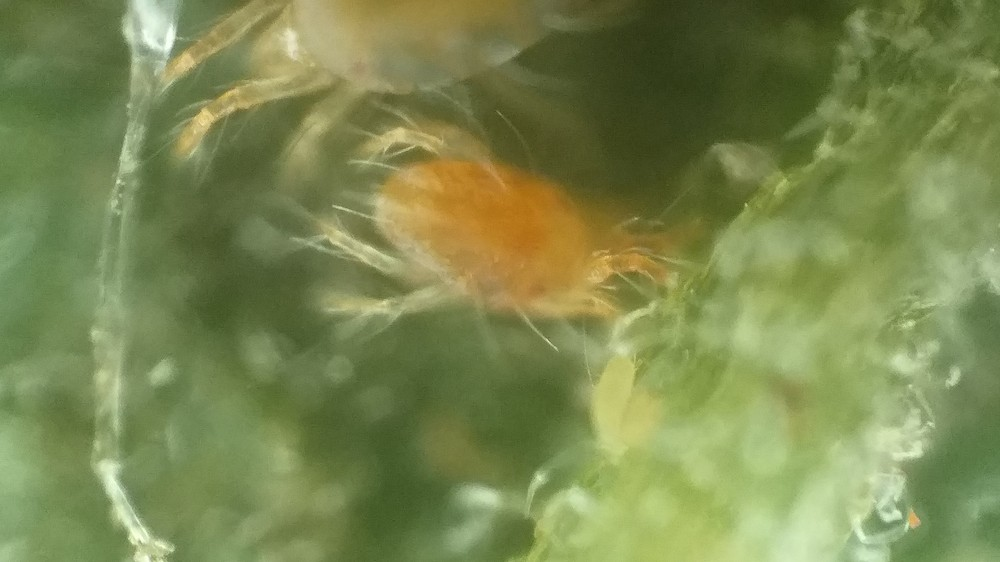Aracnido Rojo: (152, 3, 709, 186), (324, 124, 746, 339)
